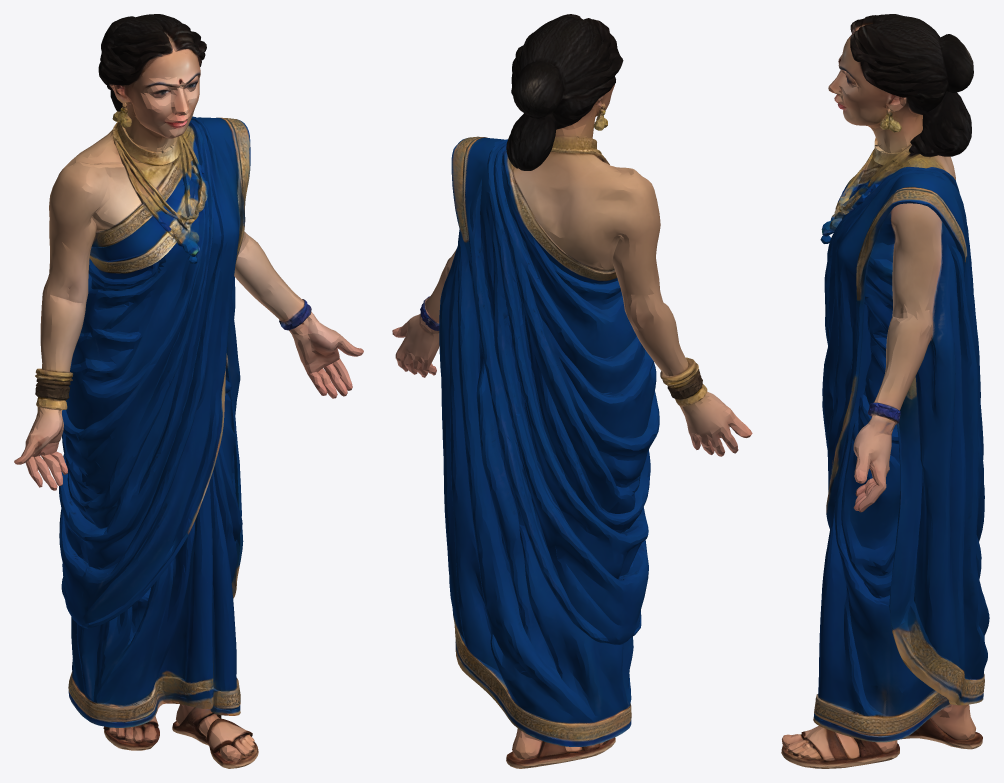
Rendered from ninsun_rodin_source.glb.
3 views of the same model, side by side, from view 1: azimuth 30°, elevation 25°; view 2: azimuth 150°, elevation 25°; view 3: azimuth 270°, elevation 25° (orthographic).
Parts seen in each view (by area): view 1: model; view 2: model; view 3: model.
Part boxes in pixels (x1,y1,x2,y2): model: (14, 14, 363, 768); model: (392, 14, 752, 768); model: (781, 14, 989, 768).
Bounding box in the file's own units: 0.9805 × 1.9 × 0.4961.
Materials: 1 (1 with a texture image).
